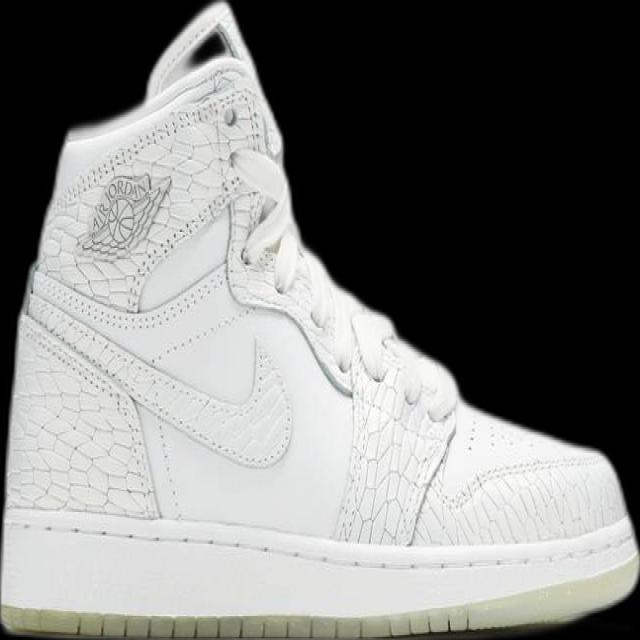J1_InsoleChar: (0, 0, 639, 639)
J1_ShoeLogo: (76, 171, 172, 258)
J1_StitchPattern: (15, 71, 292, 519), (37, 72, 275, 311), (22, 263, 294, 469), (2, 508, 639, 575), (10, 311, 161, 522), (331, 349, 458, 545), (1, 604, 473, 639)
